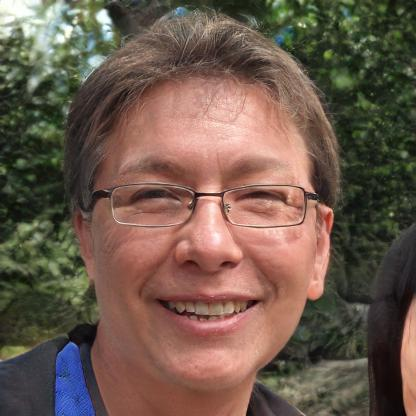glasses: (98, 176, 314, 238)
